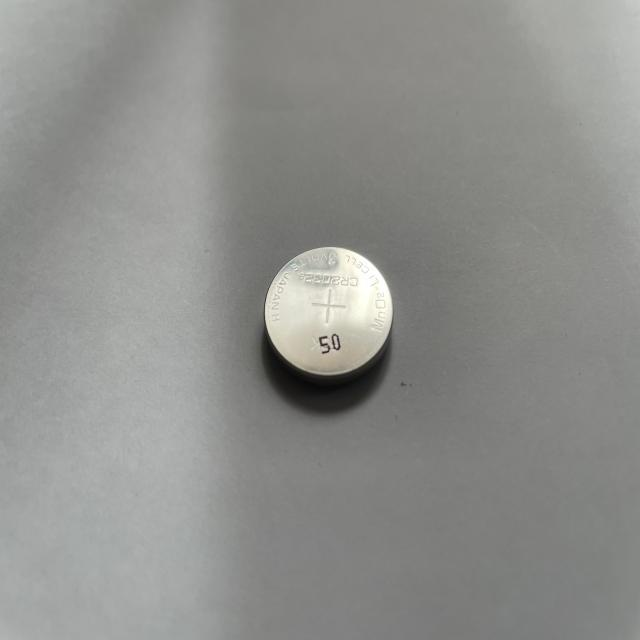COIN: (262, 246, 394, 384)
